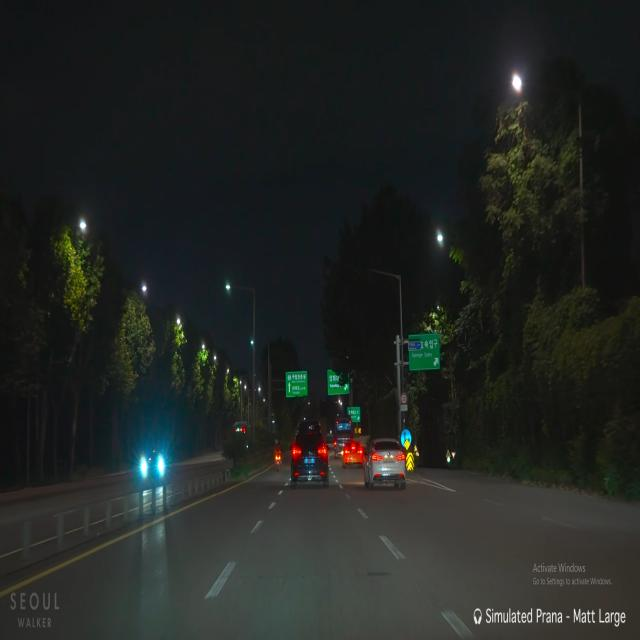headlights: (134, 454, 173, 481)
